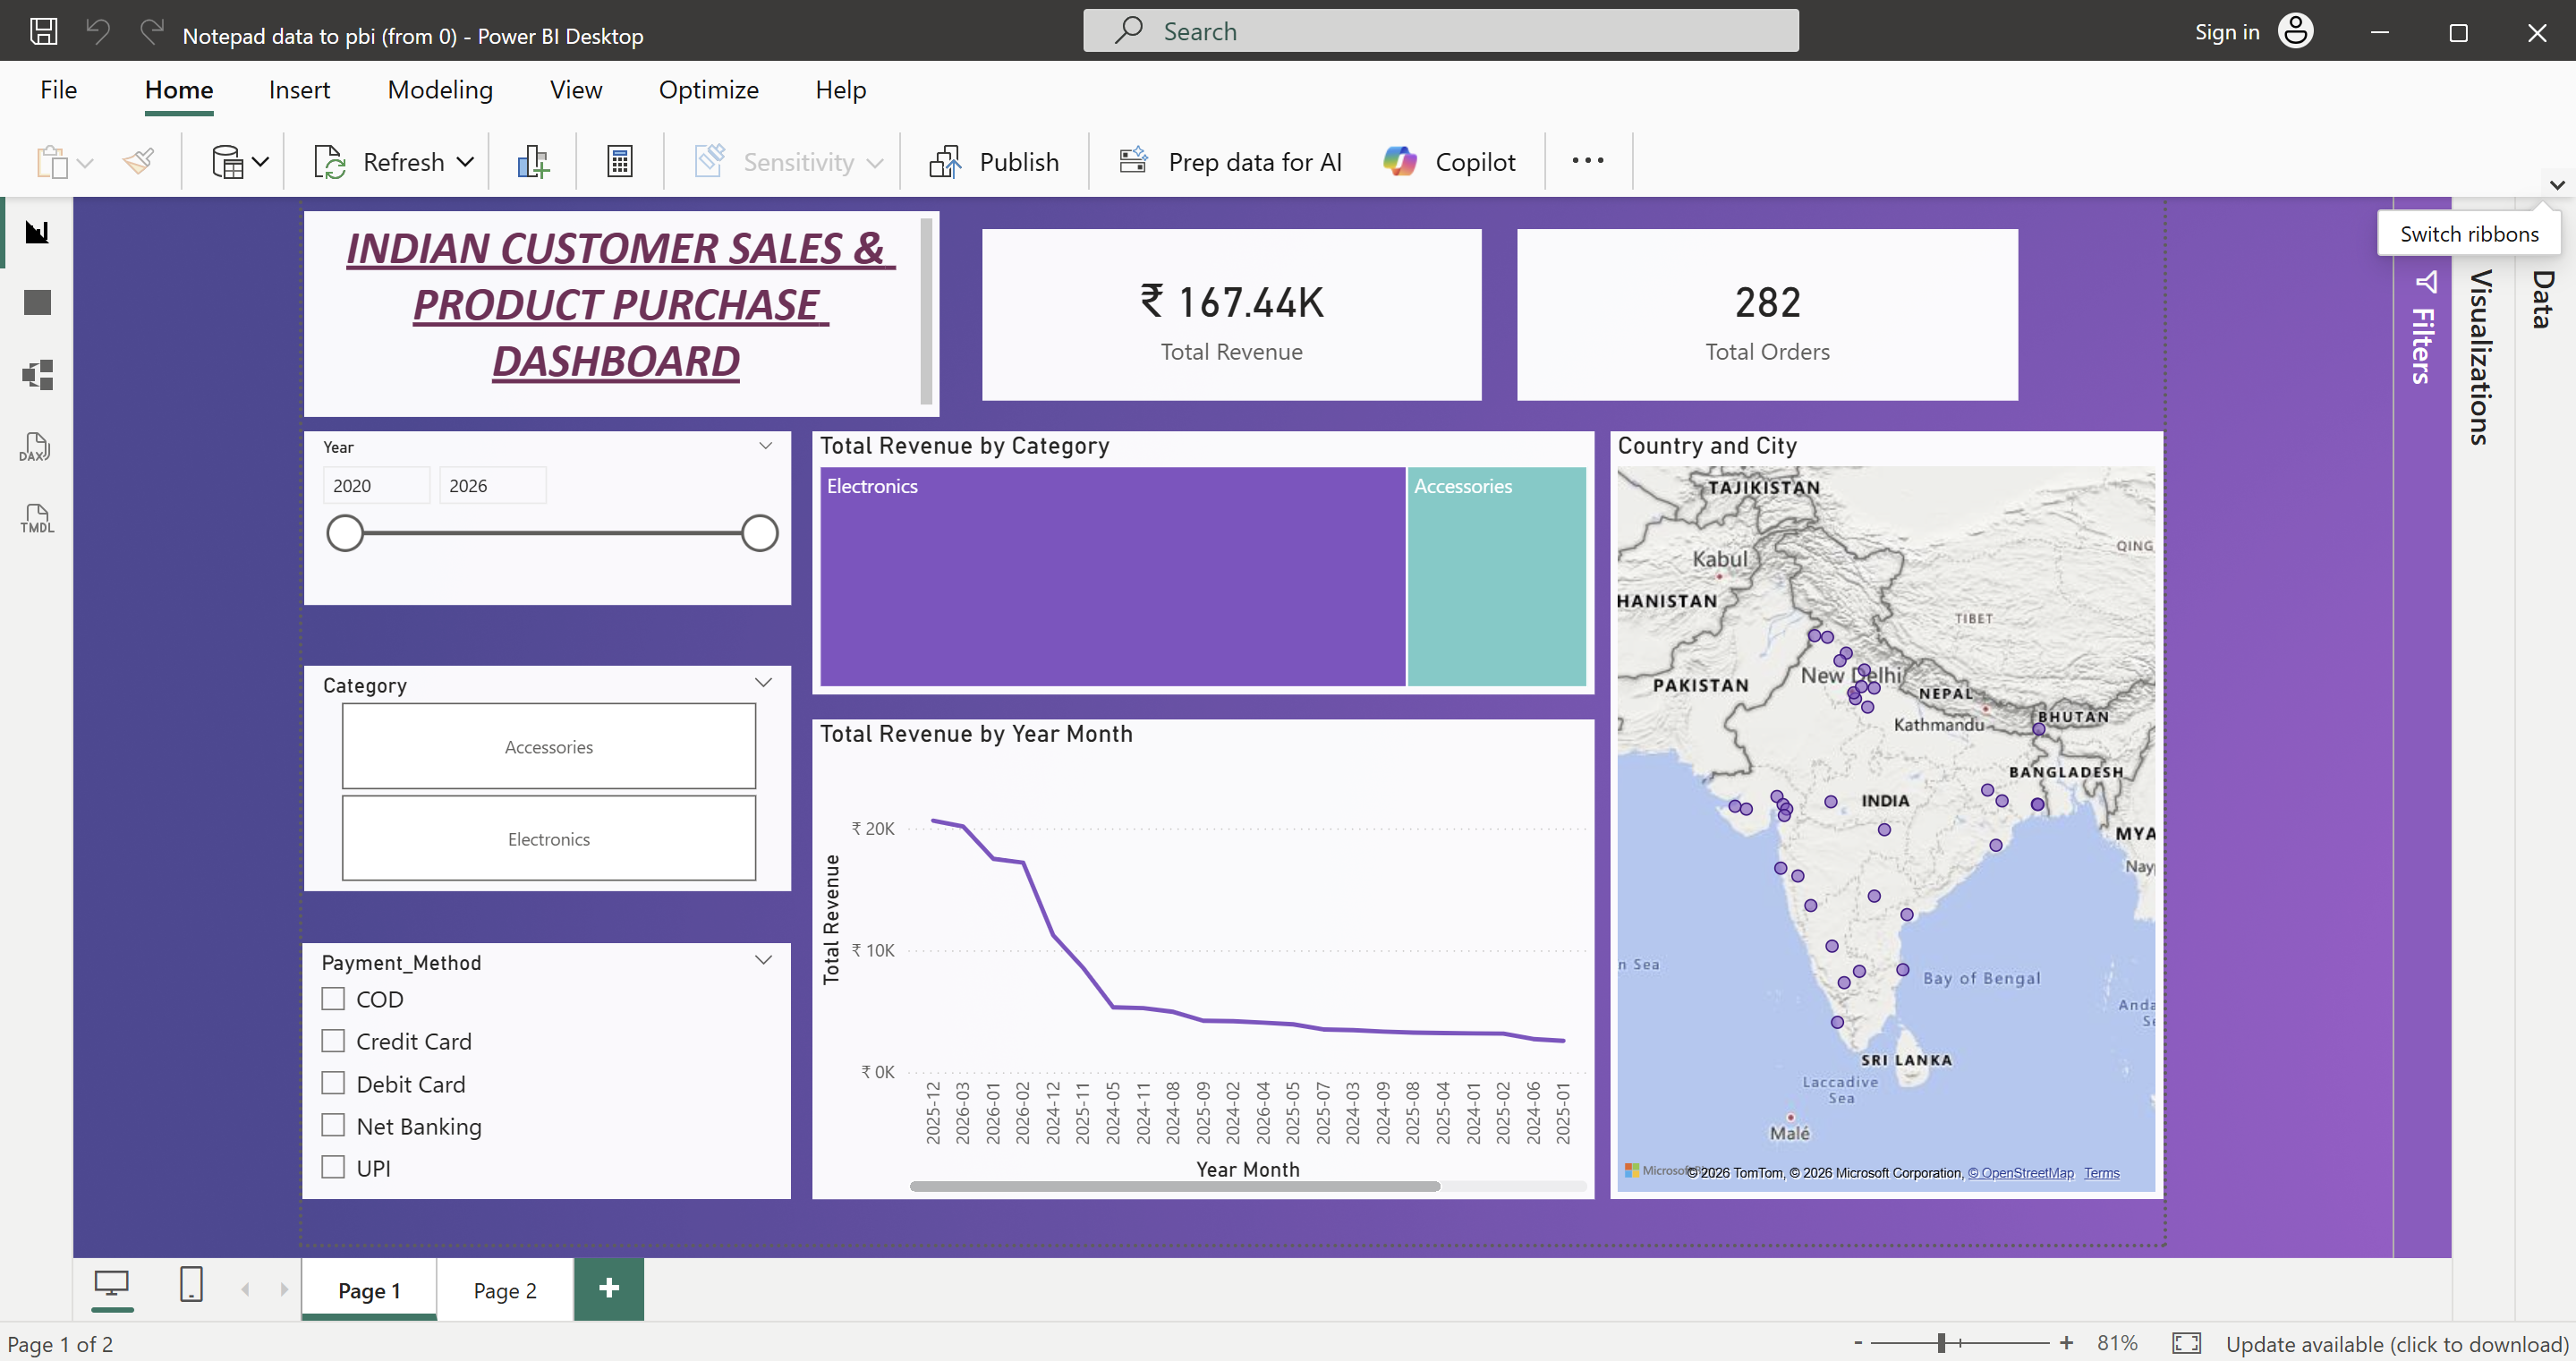

Layout of this report page (visuals, bound fields, positions):
{"tool":"powerbi","page":{"name":"Page 1","canvas":[1280,720],"ordinal":0},"visuals":[{"type":"card","fields":{"Values":["Fact_Sales_Combined.Total Revenue"]},"box":[156.2,10.7,266.4,94.9],"z":0},{"type":"card","fields":{"Values":["Fact_Sales_Combined.Total Orders"]},"box":[467,10.7,267.9,94.9],"z":1000},{"type":"card","fields":{"Values":["Fact_Sales_Combined.Return Rate %"]},"box":[767.1,10.7,266.4,94.9],"z":2000},{"type":"lineChart","fields":{"Category":["DateTable.Year Month"],"Y":["Fact_Sales_Combined.Total Revenue"]},"box":[350.6,359.8,577.2,309.3],"z":3000},{"type":"map","fields":{"Category":["Customer Data.Country","Customer Data.City"]},"box":[941.6,160.8,338.4,508.3],"z":4000},{"type":"treemap","fields":{"Group":["Product Data.Category"],"Values":["Fact_Sales_Combined.Total Revenue"]},"box":[350.6,160.8,578.8,180.7],"z":5000},{"type":"slicer","fields":{"Values":["DateTable.Year"]},"box":[0,160.8,335.3,119.4],"z":6000},{"type":"slicer","fields":{"Values":["Product Data.Category"]},"box":[0,326.1,335.3,154.6],"z":7000},{"type":"slicer","fields":{"Values":["Fact_Sales_Combined.Payment_Method"]},"box":[0,514.1,336.4,176.3],"z":8000}]}

Visuals, with their boxes on the page's 1280x720 design canvas (x1, y1, x2, y2). These are canvas units, not pixel positions in the 2576x1361 screenshot, which may show the page scaled, cropped or inside an application window:
card - Fact_Sales_Combined.Total Revenue: (156, 11, 423, 106)
card - Fact_Sales_Combined.Total Orders: (467, 11, 735, 106)
card - Fact_Sales_Combined.Return Rate %: (767, 11, 1034, 106)
lineChart - DateTable.Year Month x Fact_Sales_Combined.Total Revenue: (351, 360, 928, 669)
map - Customer Data.Country x Customer Data.City: (942, 161, 1280, 669)
treemap - Product Data.Category x Fact_Sales_Combined.Total Revenue: (351, 161, 929, 342)
slicer - DateTable.Year: (0, 161, 335, 280)
slicer - Product Data.Category: (0, 326, 335, 481)
slicer - Fact_Sales_Combined.Payment_Method: (0, 514, 336, 690)
